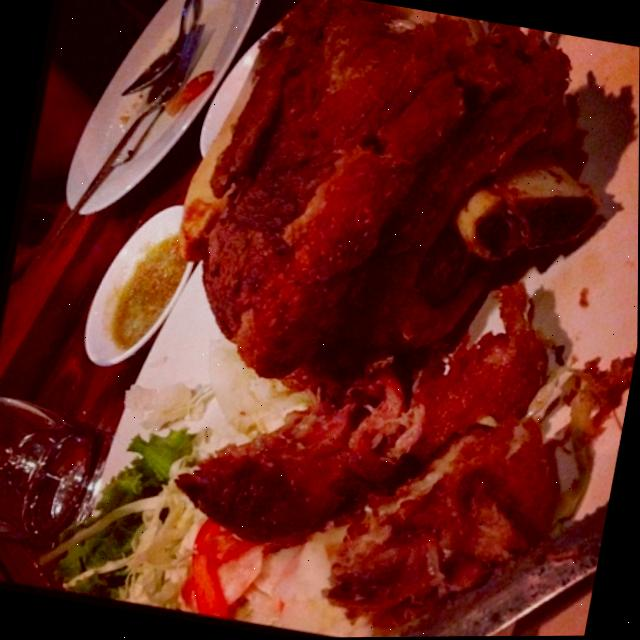猪肉菜式: (70, 0, 640, 640)
